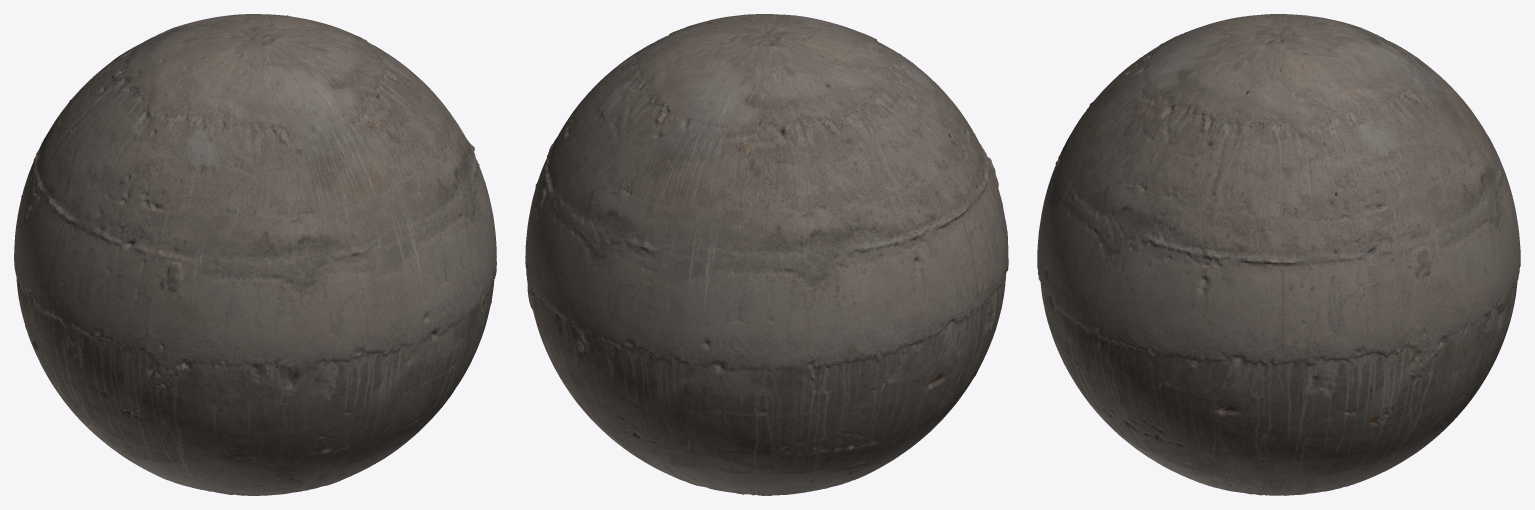
Rendered from concrete_layers_2k.gltf.
3 views of the same model, side by side, from view 1: azimuth 30°, elevation 25°; view 2: azimuth 150°, elevation 25°; view 3: azimuth 270°, elevation 25° (orthographic).
Visible parts, largest first — view 1: sphere_gltf; view 2: sphere_gltf; view 3: sphere_gltf.
Part boxes in pixels (bbox=[...]): sphere_gltf: bbox=[14, 14, 496, 495]; sphere_gltf: bbox=[525, 14, 1008, 495]; sphere_gltf: bbox=[1037, 14, 1520, 495].
Size of the model in its own units: 1.57 by 1.57 by 1.57.
1 material, 1 textured.
